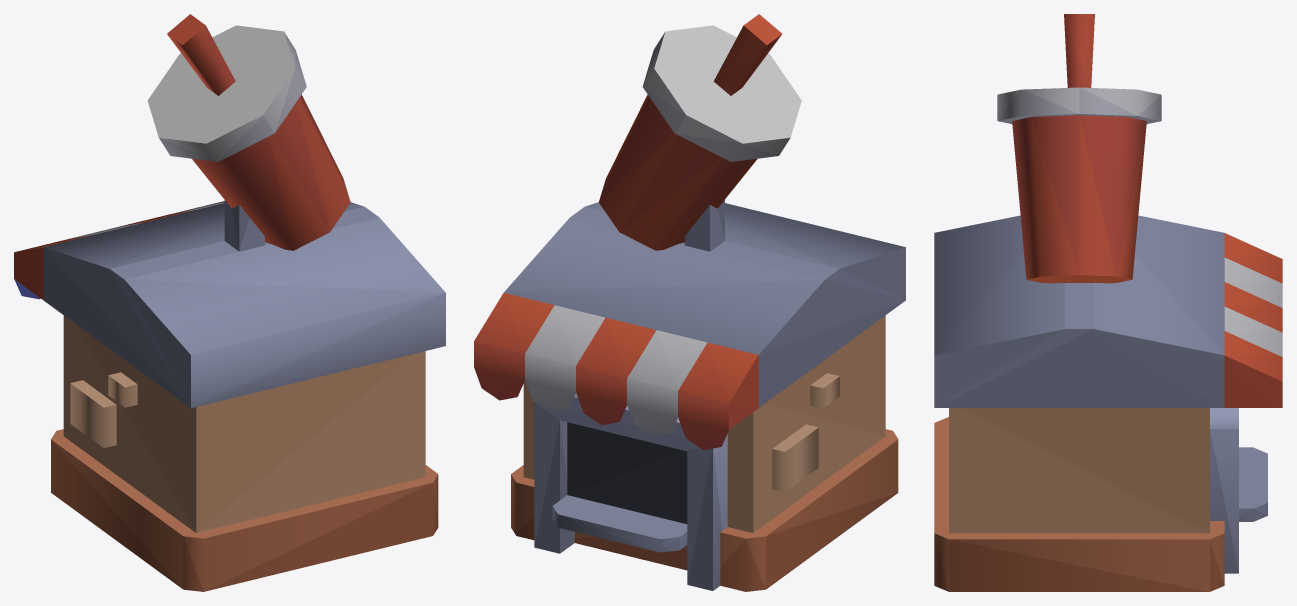
File: coaster_stall_drinks.glb
3 views of the same model, side by side, from view 1: azimuth 30°, elevation 25°; view 2: azimuth 150°, elevation 25°; view 3: azimuth 270°, elevation 25° (orthographic).
Parts seen in each view (by area): view 1: coaster_stall_drinks; view 2: coaster_stall_drinks; view 3: coaster_stall_drinks.
Boxes of the visible parts, <box> form: coaster_stall_drinks: <box>14,14,445,591</box>; coaster_stall_drinks: <box>474,14,905,591</box>; coaster_stall_drinks: <box>934,14,1282,591</box>.
Size of the model in its own units: 1 by 1.88 by 1.2.
